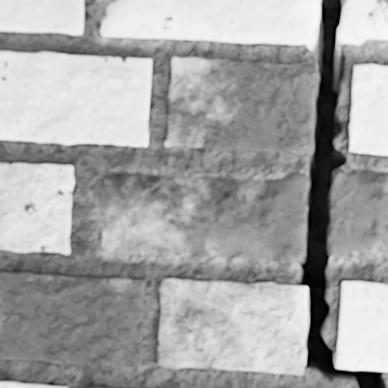brick: (165, 58, 317, 156), (158, 278, 307, 374), (0, 52, 151, 146), (0, 271, 146, 368), (0, 163, 75, 254), (335, 281, 387, 370), (349, 65, 387, 155), (0, 0, 84, 35), (0, 381, 68, 387), (83, 385, 113, 387)
broken_brick: (89, 174, 308, 262), (101, 0, 318, 46), (327, 169, 387, 256), (337, 0, 387, 45)
crack: (299, 0, 386, 387)
